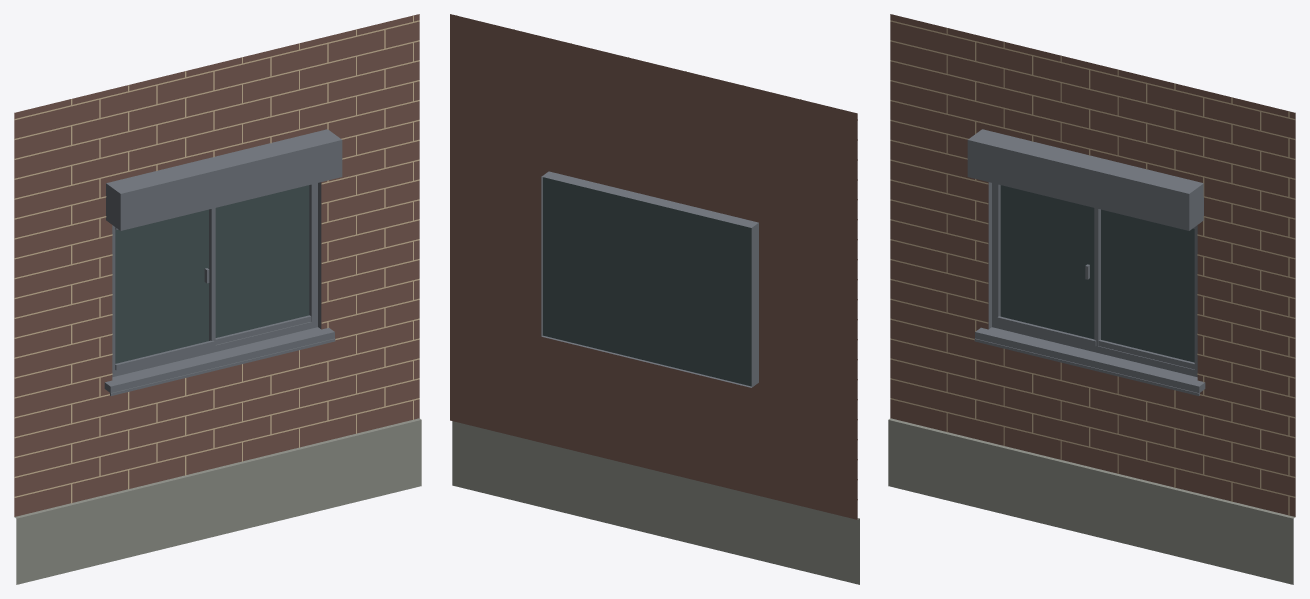
The model's file is base-w1_close.fbx.
The picture shows the model from 3 angles, left to right: view 1: azimuth 30°, elevation 25°; view 2: azimuth 150°, elevation 25°; view 3: azimuth 330°, elevation 25°; orthographic projection.
Visible parts, largest first — view 1: a2000s2/0/base-w1_close; view 2: a2000s2/0/base-w1_close; view 3: a2000s2/0/base-w1_close.
Part boxes in pixels (x1,y1,x2,y2): a2000s2/0/base-w1_close: [14, 14, 421, 584]; a2000s2/0/base-w1_close: [450, 14, 859, 584]; a2000s2/0/base-w1_close: [888, 14, 1295, 584].
Size of the model in its own units: 3.2 by 3.55 by 0.3.
